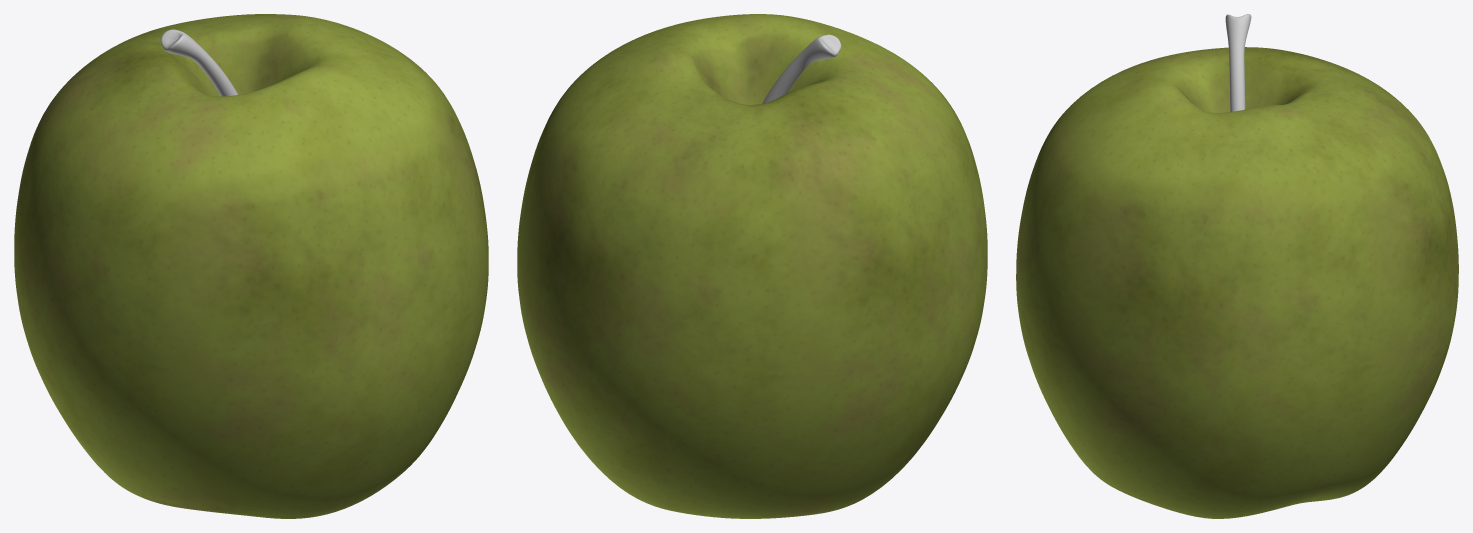
The model's file is GreenApple.fbx.
The picture shows the model from 3 angles, left to right: view 1: azimuth 30°, elevation 25°; view 2: azimuth 150°, elevation 25°; view 3: azimuth 270°, elevation 25°; orthographic projection. The views are drawn at different scales.
Visible parts, largest first — view 1: polySurface2, pCylinder1; view 2: polySurface2, pCylinder1; view 3: polySurface2, pCylinder1.
Part boxes in pixels (bbox=[...]): polySurface2: bbox=[14, 14, 488, 518]; pCylinder1: bbox=[160, 29, 238, 96]; polySurface2: bbox=[517, 14, 987, 518]; pCylinder1: bbox=[762, 34, 841, 103]; polySurface2: bbox=[1016, 47, 1458, 518]; pCylinder1: bbox=[1225, 14, 1251, 111].
Size of the model in its own units: 178 by 188 by 178.
